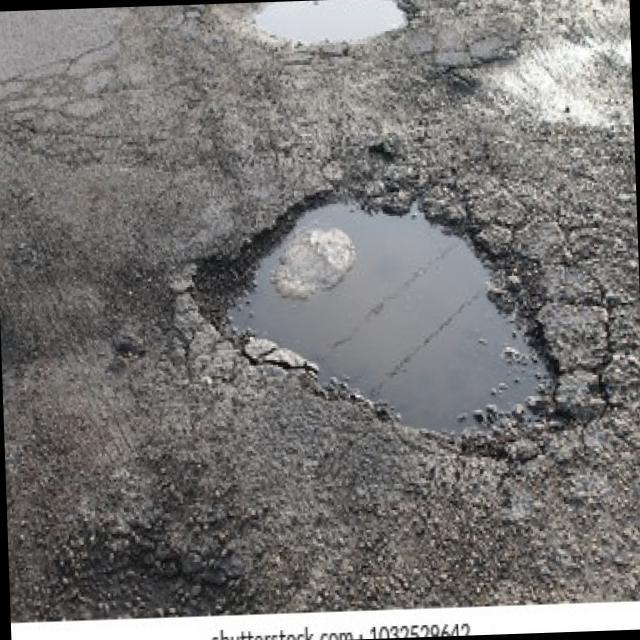Pothole: (191, 197, 572, 434)
